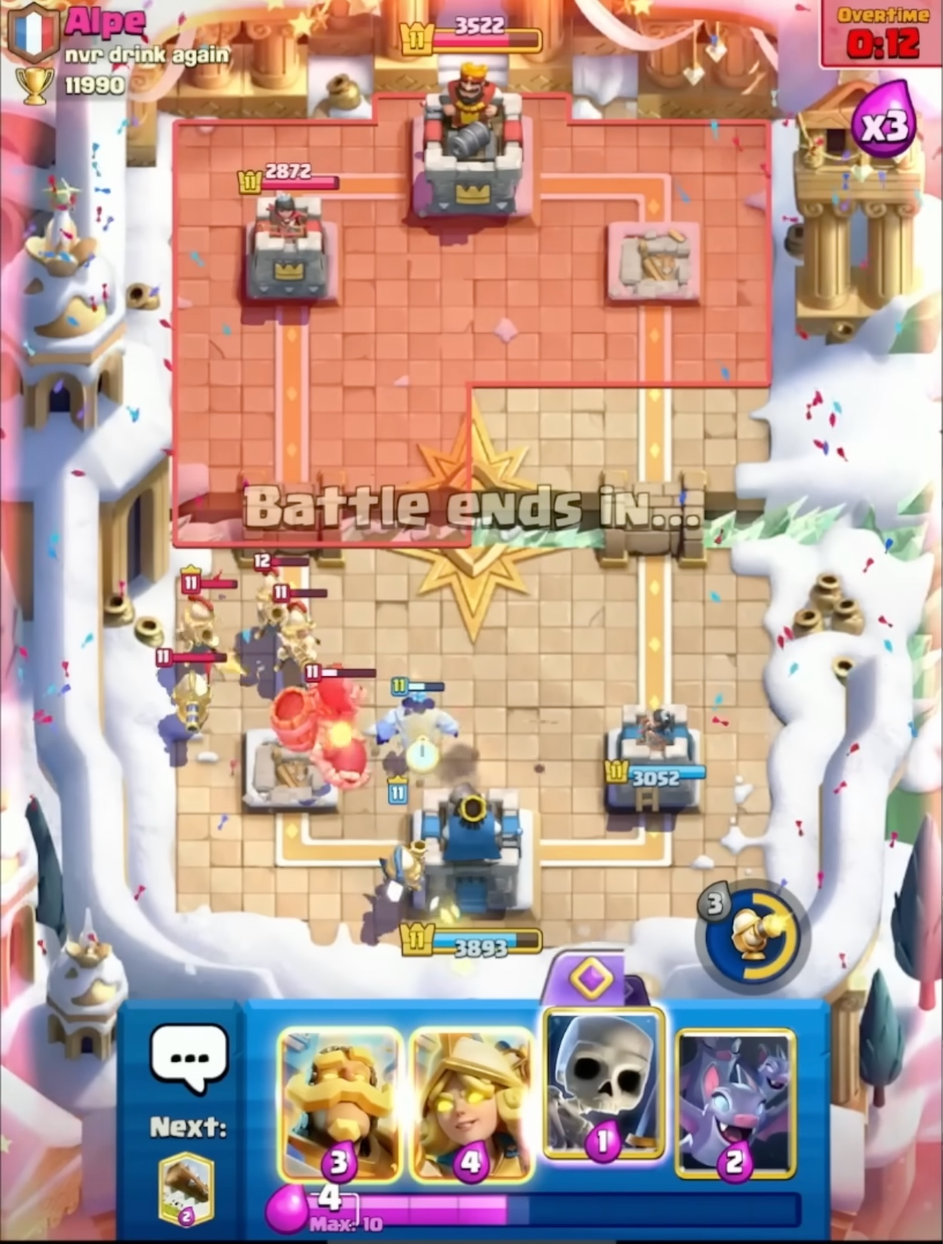hero-musketeer: (171, 555, 238, 661), (269, 579, 333, 683), (248, 549, 314, 639)
skeleton-giant: (268, 657, 373, 797)
